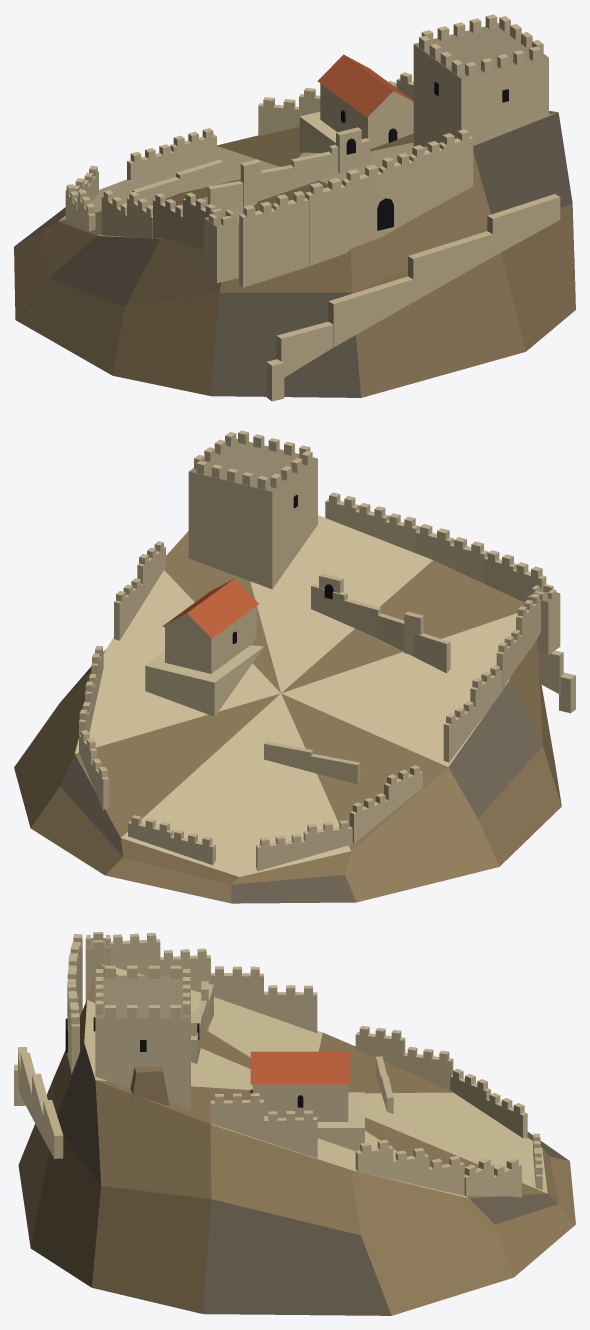
File: calatabiano.glb
3 views of the same model, one above another, from view 1: azimuth 30°, elevation 25°; view 2: azimuth 150°, elevation 25°; view 3: azimuth 270°, elevation 25° (orthographic). The views are drawn at different scales.
Visible parts, largest first — view 1: POI_calatabiano; view 2: POI_calatabiano; view 3: POI_calatabiano.
Part boxes in pixels (x1,y1,x2,y2): POI_calatabiano: [14, 14, 575, 401]; POI_calatabiano: [14, 430, 575, 903]; POI_calatabiano: [14, 932, 575, 1315].
Bounding box in the file's own units: 201 × 105 × 200.
